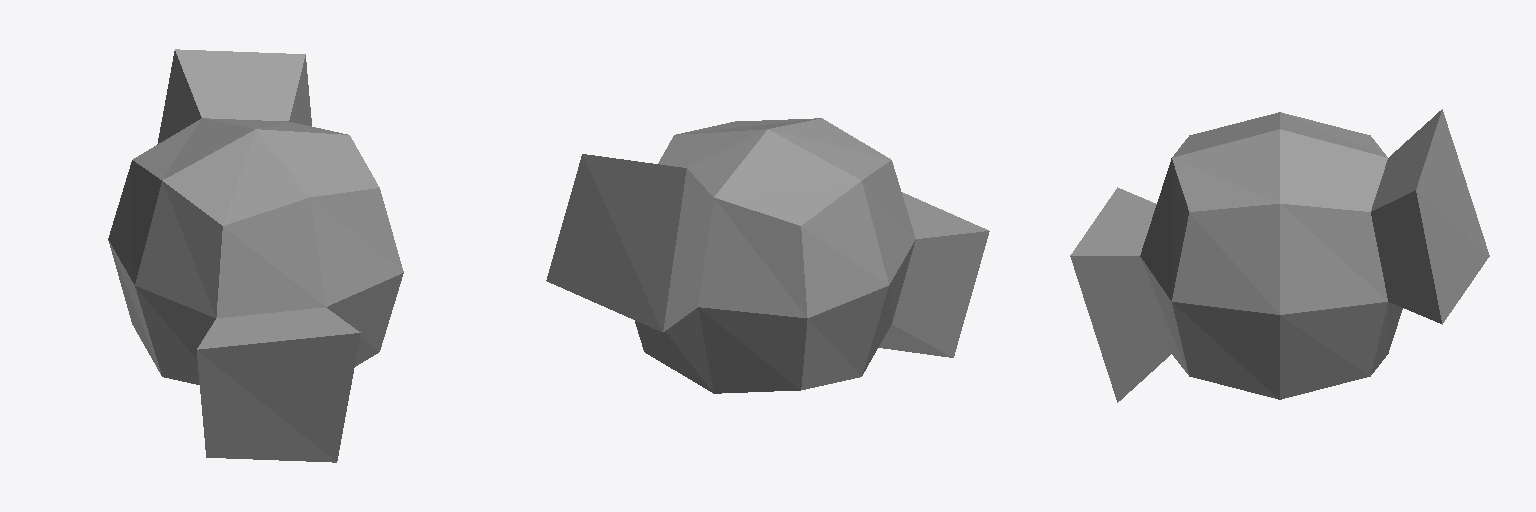
File: player.obj
The picture shows the model from 3 angles: view 1: azimuth 30°, elevation 25°; view 2: azimuth 150°, elevation 25°; view 3: azimuth 270°, elevation 25°; orthographic projection.
Parts seen in each view (by area): view 1: Cube; view 2: Cube; view 3: Cube.
Boxes of the visible parts, box(x1,y1,x2,y2) form: Cube: box(108, 49, 403, 462); Cube: box(546, 118, 989, 393); Cube: box(1070, 109, 1489, 402).
Bounding box in the file's own units: 3.58 × 3.58 × 4.63.